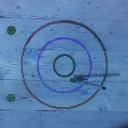Axe Tip: (78, 76, 87, 79)
